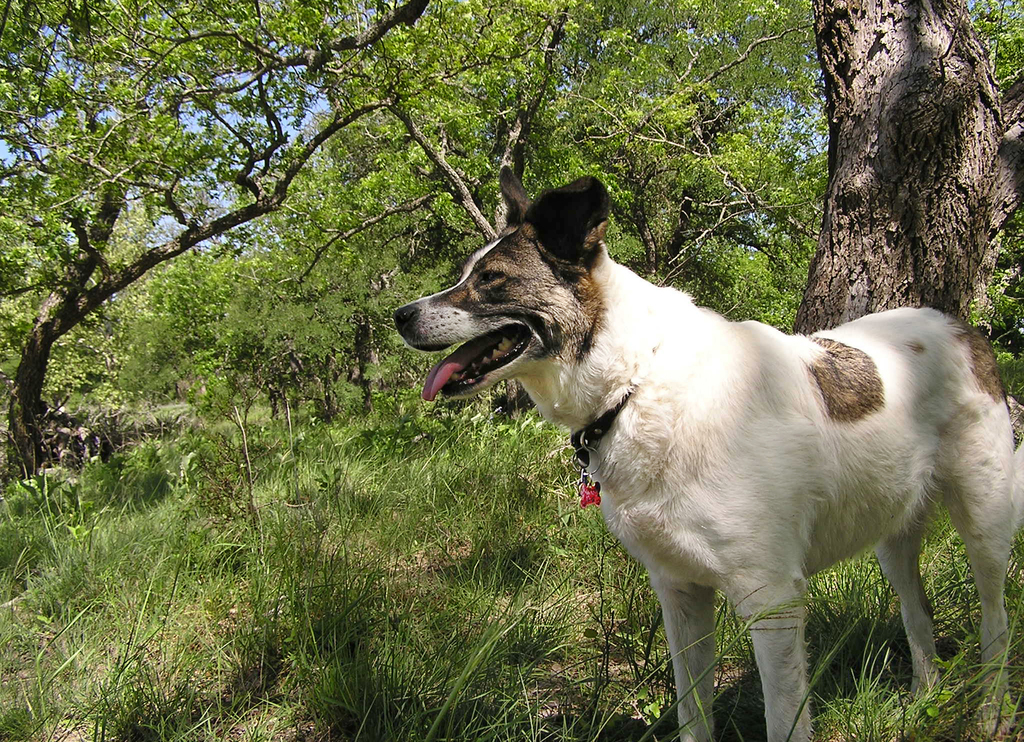Animal: (389, 161, 1010, 740)
